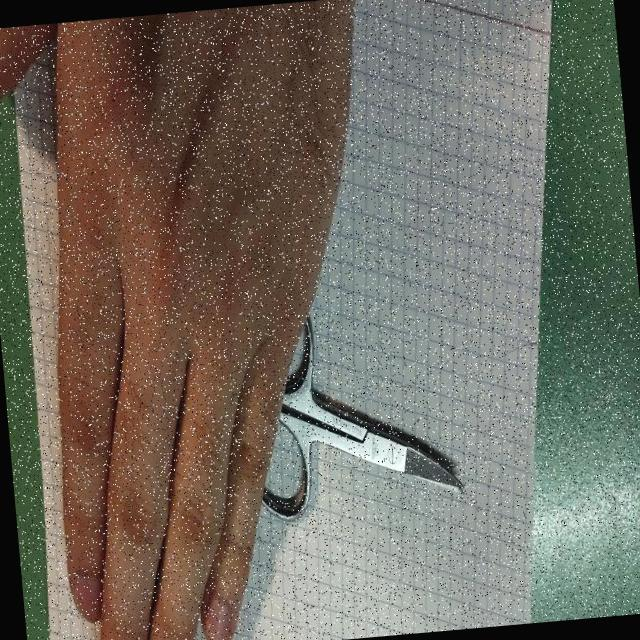scissors: (210, 278, 472, 532)
